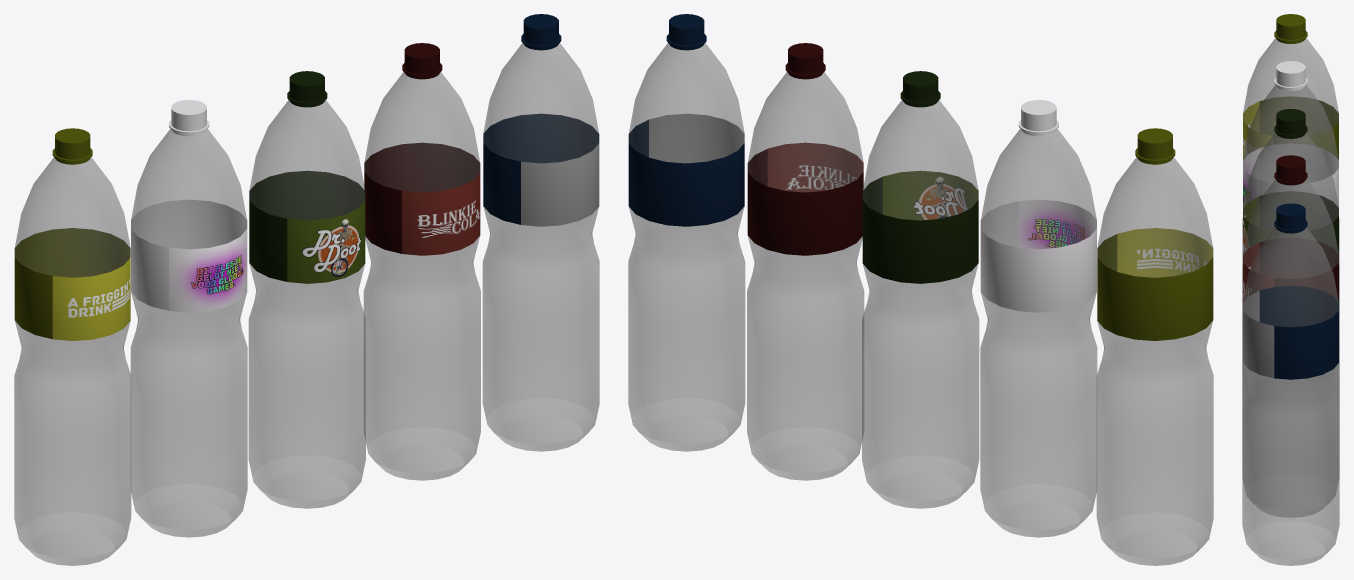
File: SM_Bottles.FBX
3 views of the same model, side by side, from view 1: azimuth 30°, elevation 25°; view 2: azimuth 150°, elevation 25°; view 3: azimuth 270°, elevation 25° (orthographic). The views are drawn at different scales.
Visible parts, largest first — view 1: Cylinder003, Cylinder005, Cylinder001, Cylinder004, Cylinder002; view 2: Cylinder003, Cylinder005, Cylinder001, Cylinder004, Cylinder002; view 3: Cylinder001, Cylinder002, Cylinder003, Cylinder004, Cylinder005.
Boxes of the visible parts, box(x1,y1,x2,y2) form: Cylinder003: box(248, 71, 365, 508); Cylinder005: box(14, 128, 131, 565); Cylinder001: box(482, 14, 599, 451); Cylinder004: box(130, 100, 247, 537); Cylinder002: box(363, 43, 480, 480); Cylinder003: box(862, 71, 979, 508); Cylinder005: box(1096, 128, 1213, 565); Cylinder001: box(628, 14, 745, 451); Cylinder004: box(980, 100, 1097, 537); Cylinder002: box(747, 43, 864, 480); Cylinder001: box(1242, 203, 1339, 565); Cylinder002: box(1242, 155, 1339, 517); Cylinder003: box(1242, 109, 1339, 406); Cylinder004: box(1242, 61, 1339, 358); Cylinder005: box(1242, 14, 1339, 312).
Bounding box in the file's own units: 94.46 × 65.09 × 16.76.
